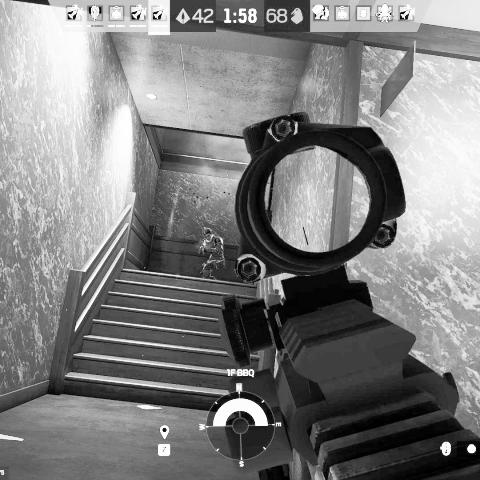Character: (196, 225, 227, 282)
Head: (200, 227, 215, 242)
